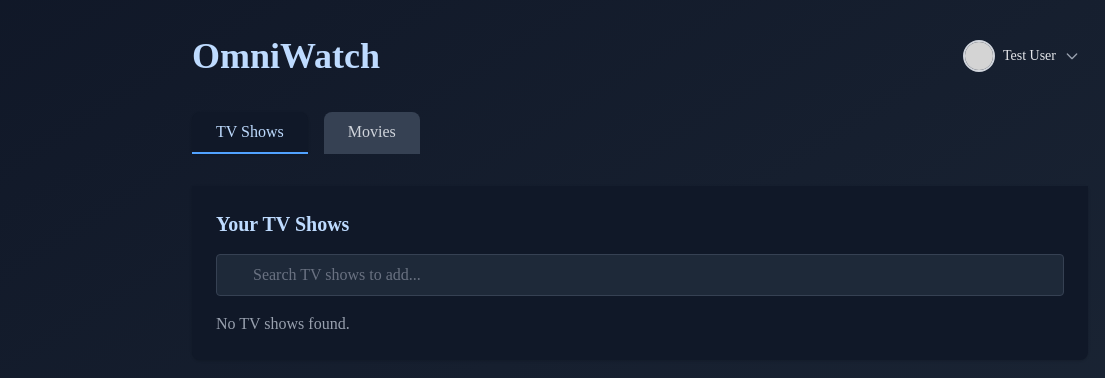
Test: Dashboard › switches between TV Shows and Movies tabs
Expected: the heading "Your TV Shows" is shown, [216,213,349,235]
Click the button "Movies".
click(372, 133)  # box [324,112,420,154]
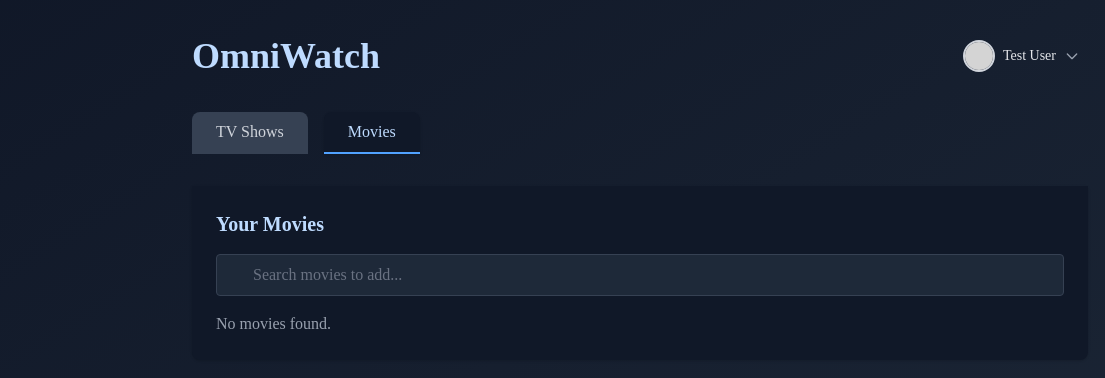
Expected: the heading "Your Movies" is shown, [216,213,324,235]
Click the button "TV Shows".
click(250, 133)  # box [192,112,308,154]
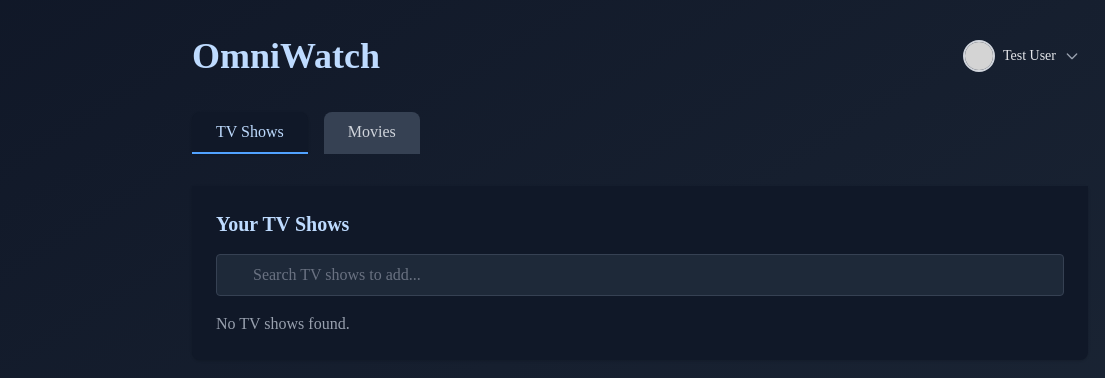
Expected: the heading "Your TV Shows" is shown, [216,213,349,235]
